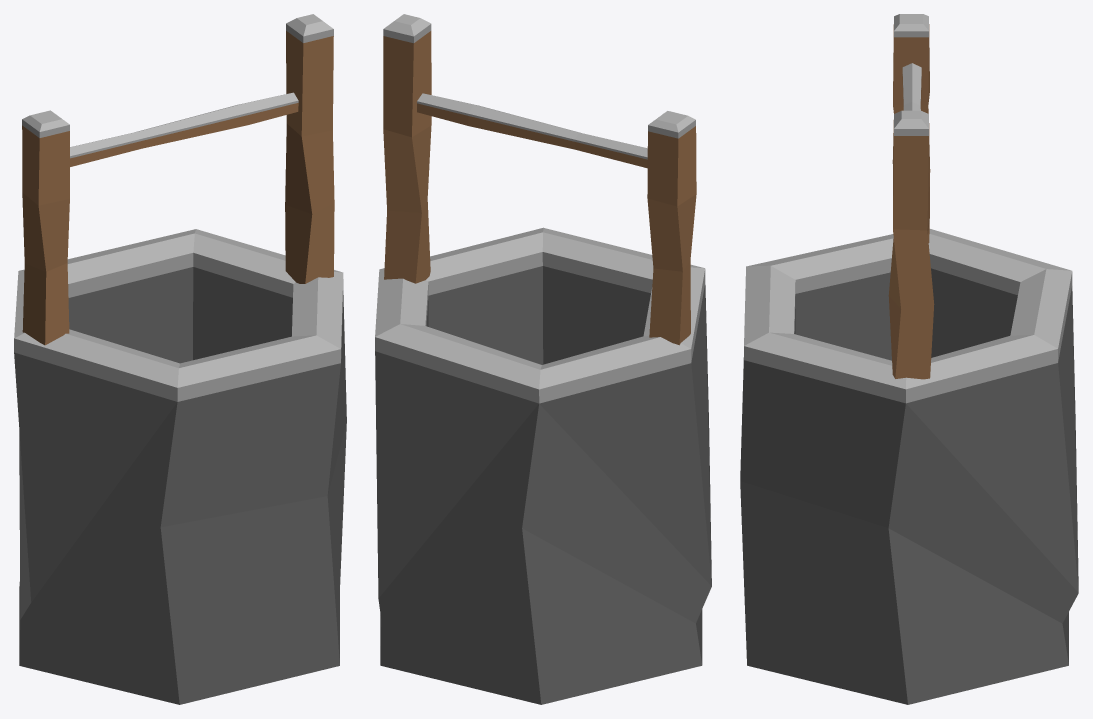
Rendered from Fountain_1 winter.fbx.
3 renders of one model, left to right at view 1: azimuth 30°, elevation 25°; view 2: azimuth 150°, elevation 25°; view 3: azimuth 270°, elevation 25°, orthographic.
Parts seen in each view (by area): view 1: FountainWinter_mesh; view 2: FountainWinter_mesh; view 3: FountainWinter_mesh.
Part boxes in pixels (x1=…): FountainWinter_mesh: x1=14, y1=14, x2=346, y2=704; FountainWinter_mesh: x1=375, y1=14, x2=711, y2=704; FountainWinter_mesh: x1=740, y1=14, x2=1078, y2=704.
Bounding box in the file's own units: 138 × 235 × 125.
